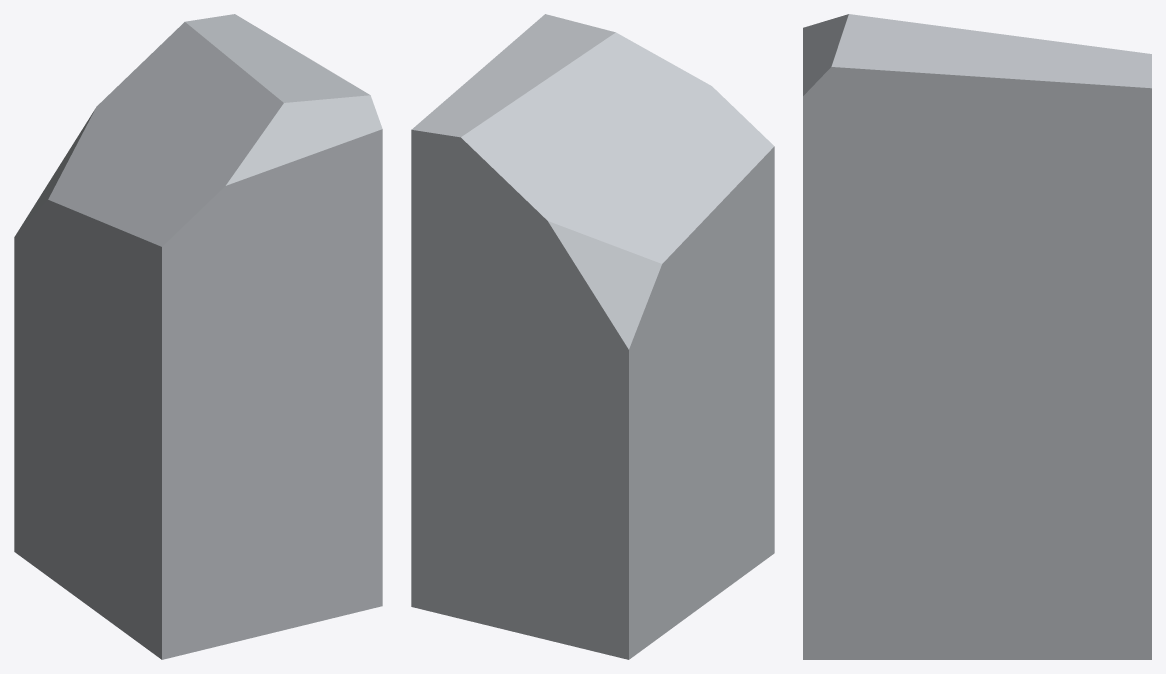
File: Rock_Square_m_05.fbx
3 renders of one model, left to right at view 1: azimuth 30°, elevation 25°; view 2: azimuth 150°, elevation 25°; view 3: azimuth 270°, elevation 25°, orthographic. The views are drawn at different scales.
Parts seen in each view (by area): view 1: Rock_Square_m_05; view 2: Rock_Square_m_05; view 3: Rock_Square_m_05.
Boxes of the visible parts, x1,y1,x2,y2 form: Rock_Square_m_05: (14,14,382,659); Rock_Square_m_05: (411,14,774,659); Rock_Square_m_05: (803,14,1151,659).
Bounding box in the file's own units: 41.39 × 91.12 × 48.
